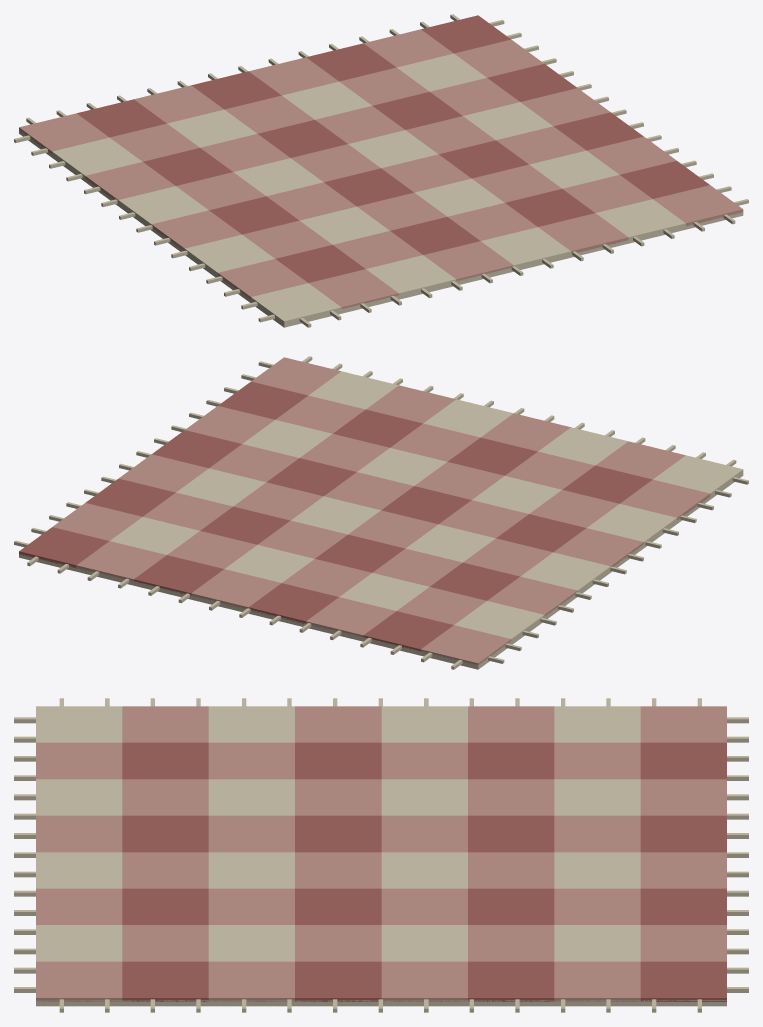
File: picnic_blanket.glb
3 views of the same model, one above another, from view 1: azimuth 30°, elevation 25°; view 2: azimuth 150°, elevation 25°; view 3: azimuth 270°, elevation 25° (orthographic). The views are drawn at different scales.
Parts seen in each view (by area): view 1: geometry; view 2: geometry; view 3: geometry.
Boxes of the visible parts, x1,y1,x2,y2 form: geometry: (14, 14, 748, 327); geometry: (14, 356, 748, 669); geometry: (14, 698, 748, 1012).
Size of the model in its own units: 2 by 0.025 by 2.
